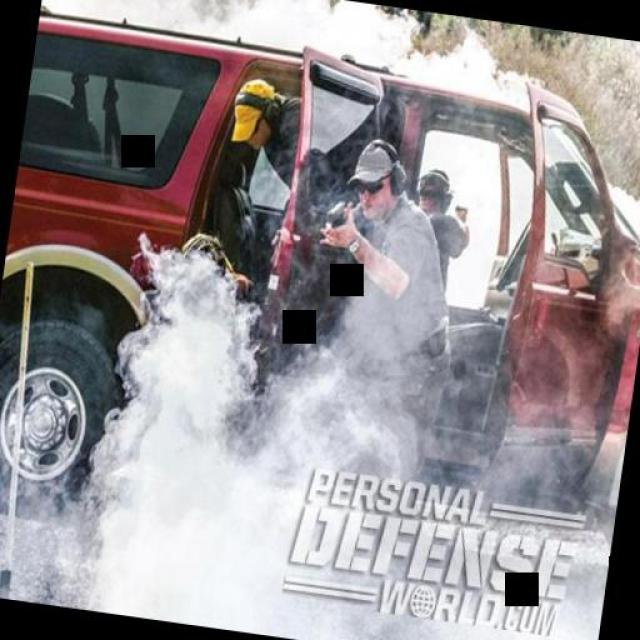gun: (322, 192, 346, 234), (452, 201, 466, 220)
